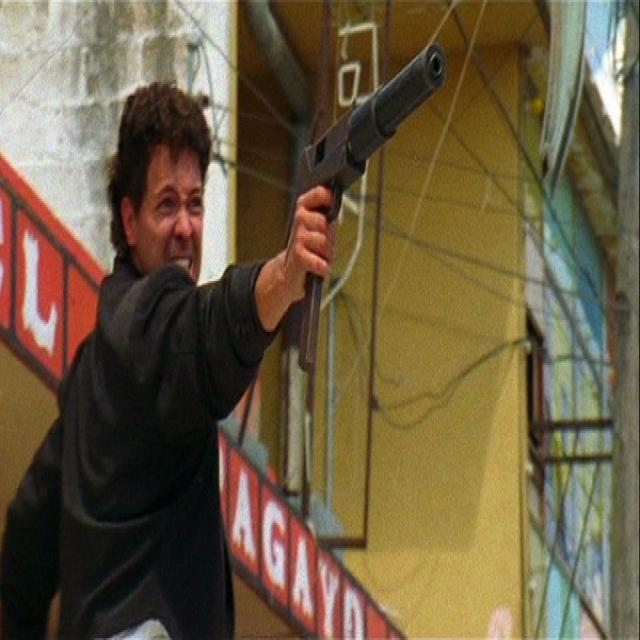rifle: (287, 42, 450, 378)
